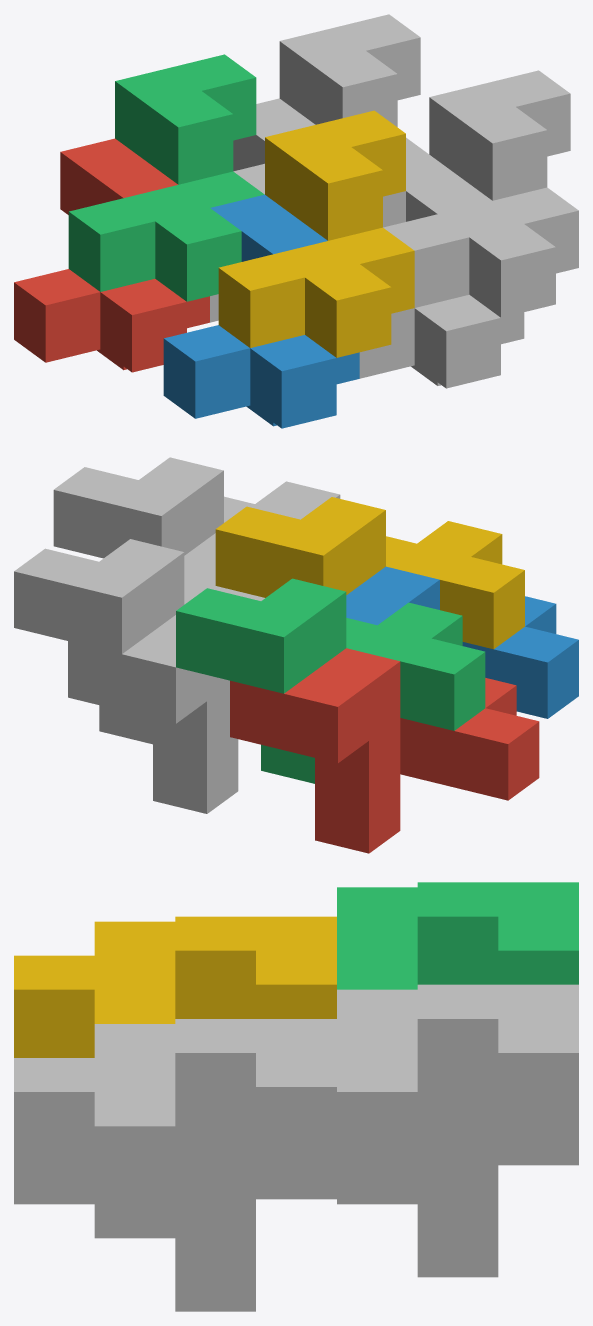
The model's file is tiling.obj.
3 renders of one model, top to bottom at view 1: azimuth 30°, elevation 25°; view 2: azimuth 150°, elevation 25°; view 3: azimuth 270°, elevation 25°, orthographic. The views are drawn at different scales.
Parts seen in each view (by area): view 1: copy_1_domain_4, copy_1_domain_8, copy_1_domain_3, copy_1_domain_1, copy_1_domain_2, copy_1_domain_7, copy_1_domain_6, copy_1_domain_5; view 2: copy_1_domain_1, copy_1_domain_3, copy_1_domain_4, copy_1_domain_5, copy_1_domain_7, copy_1_domain_8, copy_1_domain_2, copy_1_domain_6; view 3: copy_1_domain_8, copy_1_domain_7, copy_1_domain_4, copy_1_domain_3, copy_1_domain_6, copy_1_domain_5.
Boxes of the visible parts, x1,y1,x2,y2 form: copy_1_domain_4: (218,110,414,357); copy_1_domain_8: (383,70,578,317); copy_1_domain_3: (68,54,264,301); copy_1_domain_1: (14,138,209,372); copy_1_domain_2: (163,194,359,428); copy_1_domain_7: (233,14,428,227); copy_1_domain_6: (359,154,524,388); copy_1_domain_5: (210,98,315,322); copy_1_domain_1: (230,648,539,853); copy_1_domain_3: (176,578,485,783); copy_1_domain_4: (215,497,524,649); copy_1_domain_5: (68,615,238,813); copy_1_domain_7: (14,539,264,744); copy_1_domain_8: (53,457,340,558); copy_1_domain_2: (346,566,578,718); copy_1_domain_6: (184,533,215,585); copy_1_domain_8: (14,1019,336,1272); copy_1_domain_7: (337,984,578,1238); copy_1_domain_4: (14,916,336,1057); copy_1_domain_3: (337,882,578,989); copy_1_domain_6: (14,1160,336,1311); copy_1_domain_5: (337,1126,578,1277).
Size of the model in its own units: 9 by 4 by 7.
